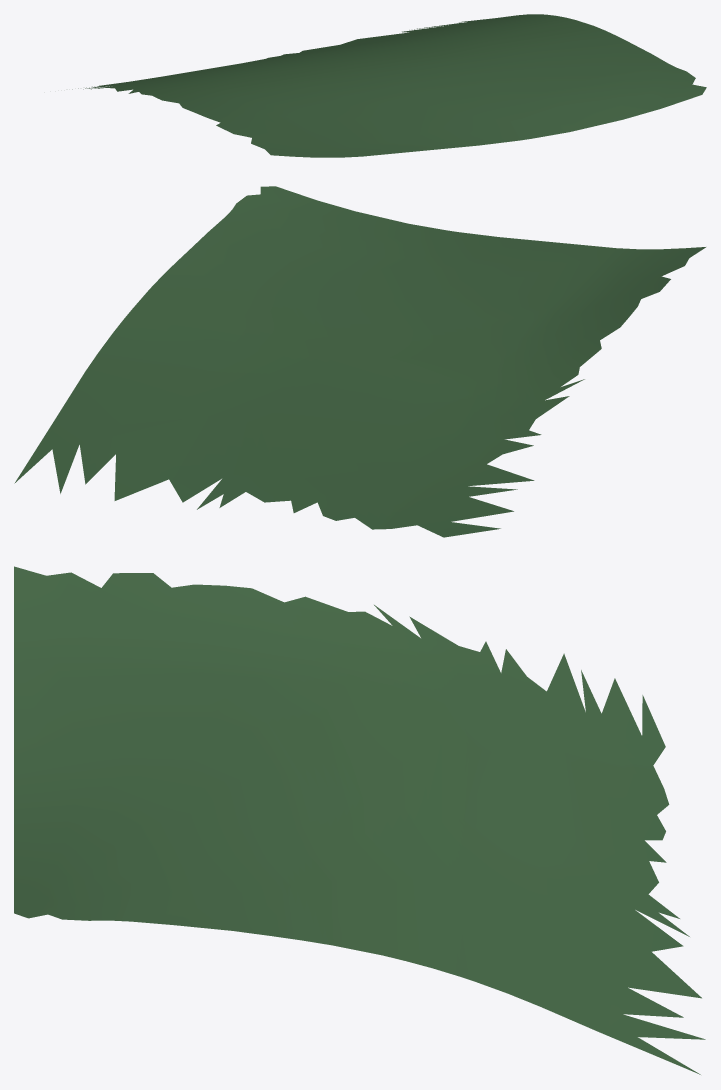
File: payo_land_x0_y10_lod1.glb
3 renders of one model, top to bottom at view 1: azimuth 30°, elevation 25°; view 2: azimuth 150°, elevation 25°; view 3: azimuth 270°, elevation 25°, orthographic. The views are drawn at different scales.
Parts seen in each view (by area): view 1: payo_land_x0_y10; view 2: payo_land_x0_y10; view 3: payo_land_x0_y10.
Boxes of the visible parts, <box> form: payo_land_x0_y10: <box>72,14,706,157</box>; payo_land_x0_y10: <box>14,186,705,537</box>; payo_land_x0_y10: <box>14,566,705,1074</box>.
Size of the model in its own units: 277 by 89.21 by 258.
